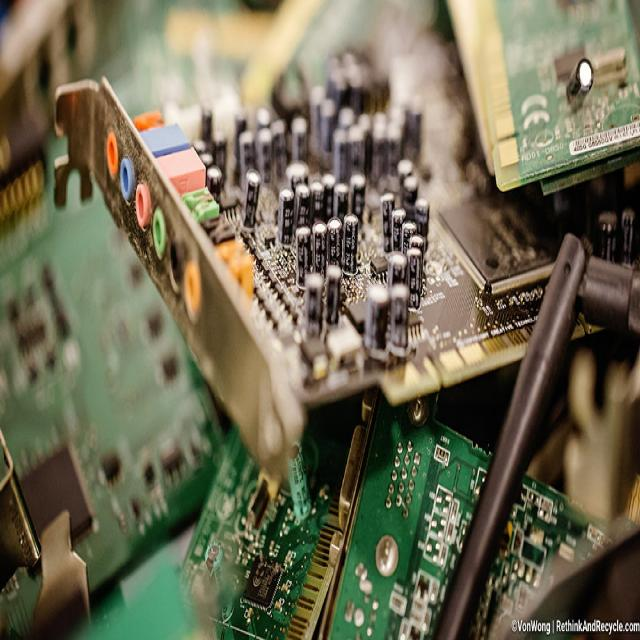hazard: (9, 0, 640, 640)
